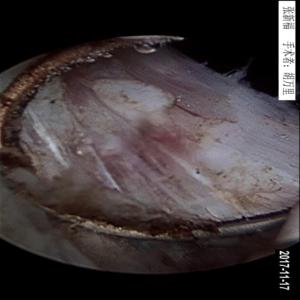film: (60, 54, 273, 211)
